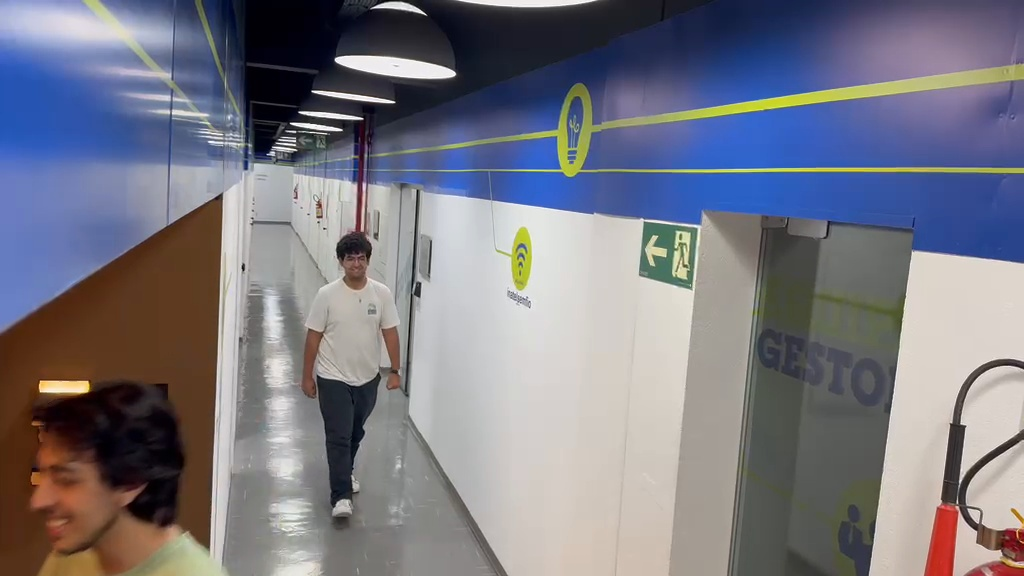person: (27, 382, 226, 574), (301, 232, 401, 520)
